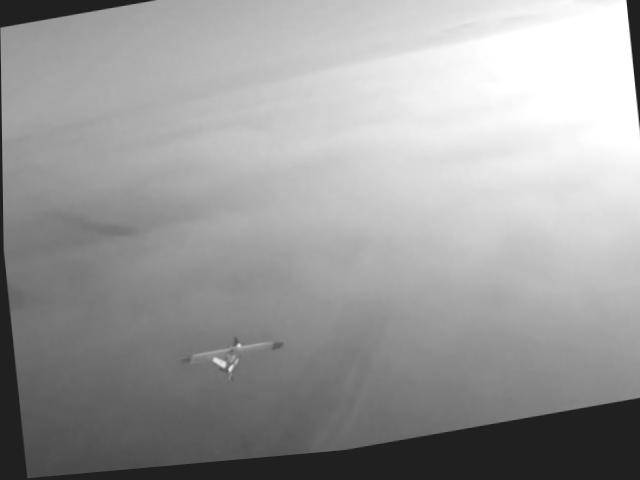hedef: (176, 329, 289, 396)
